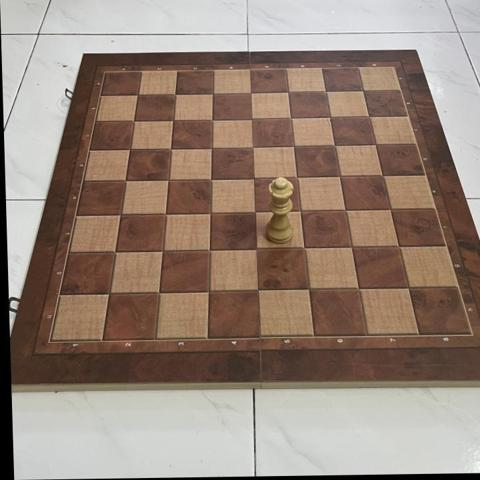xcorner: (321, 109, 339, 127), (282, 110, 300, 128), (204, 111, 222, 129), (126, 112, 144, 130), (285, 138, 303, 156), (331, 168, 349, 186), (203, 170, 221, 188), (247, 203, 265, 221), (202, 204, 220, 222), (343, 239, 361, 257), (300, 281, 318, 299), (151, 283, 169, 301), (355, 83, 372, 101), (317, 84, 335, 101), (280, 84, 297, 102), (242, 85, 260, 102), (205, 85, 222, 103), (167, 86, 185, 103), (243, 111, 261, 128), (165, 112, 183, 129), (367, 137, 385, 154), (326, 138, 344, 155), (244, 139, 262, 156), (204, 139, 221, 157), (163, 140, 180, 158), (122, 141, 140, 158), (374, 168, 392, 185), (289, 169, 306, 187), (160, 171, 178, 188), (337, 202, 354, 220), (292, 203, 310, 220), (113, 205, 130, 223), (390, 239, 408, 256), (296, 240, 313, 258), (202, 241, 219, 259), (155, 242, 172, 260), (400, 280, 417, 298), (251, 282, 268, 300), (102, 284, 119, 302), (130, 87, 147, 104), (361, 109, 378, 126), (246, 170, 263, 187), (118, 172, 135, 189), (382, 202, 399, 219), (158, 205, 175, 222), (249, 241, 266, 258), (108, 243, 125, 260), (350, 281, 367, 298), (201, 283, 218, 300)
